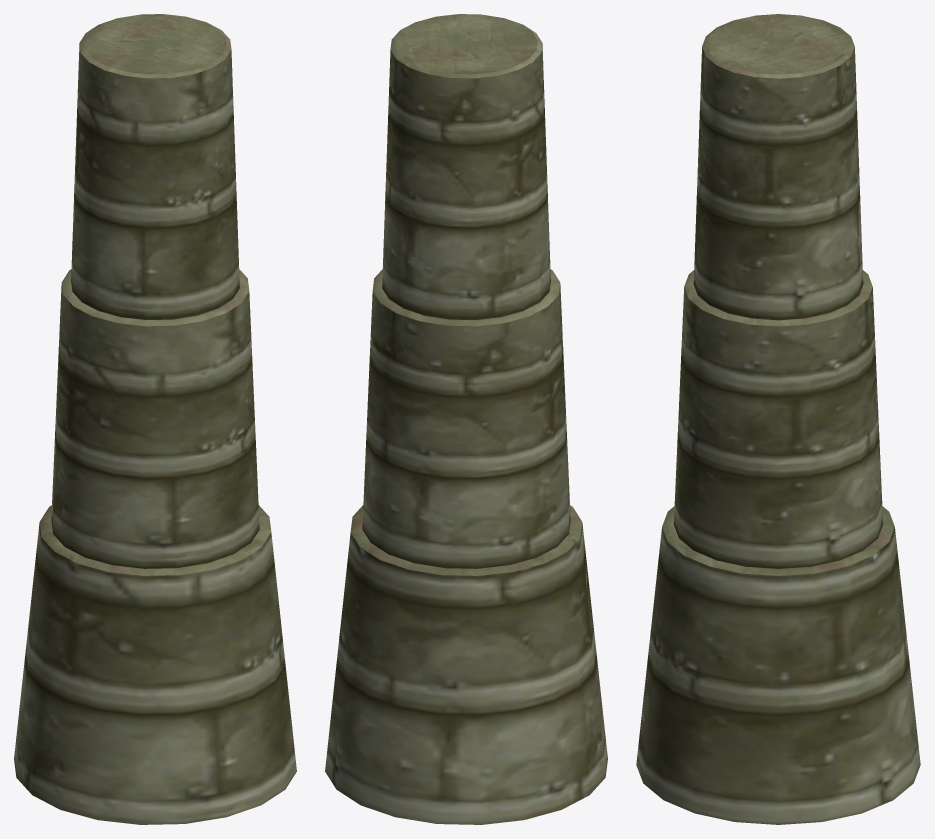
Rendered from cornerstone-01.fbx.
The picture shows the model from 3 angles, left to right: view 1: azimuth 30°, elevation 25°; view 2: azimuth 150°, elevation 25°; view 3: azimuth 270°, elevation 25°; orthographic projection.
Parts seen in each view (by area): view 1: Cylinder.008; view 2: Cylinder.008; view 3: Cylinder.008.
Part boxes in pixels (<box>): Cylinder.008: <box>14,14,296,824</box>; Cylinder.008: <box>325,14,607,824</box>; Cylinder.008: <box>636,14,920,824</box>.
Bounding box in the file's own units: 0.9657 × 2.7 × 0.9657.
